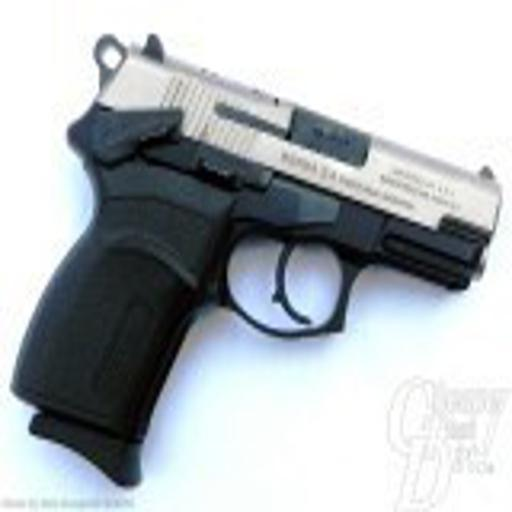Handgun: (8, 16, 504, 489)
